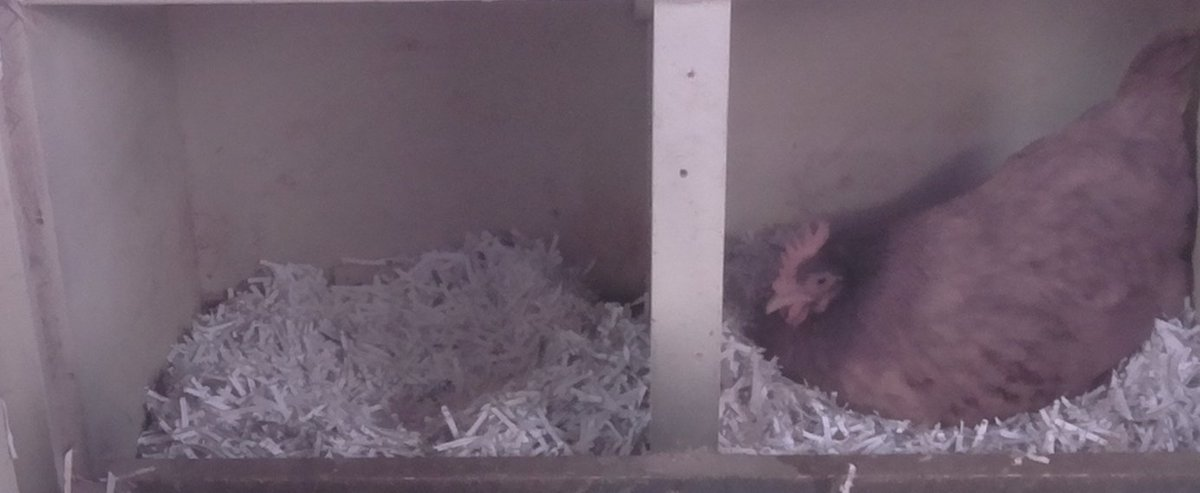hen: (748, 25, 1195, 428)
